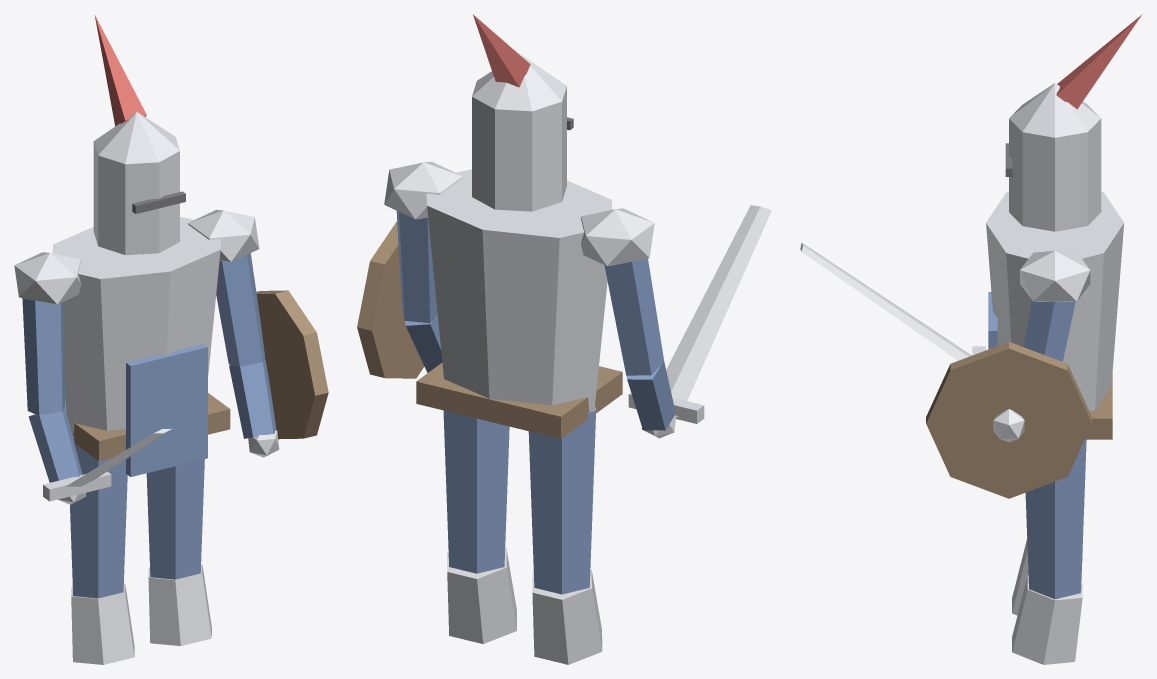
Rendered from knight_of_cardboard.glb.
The picture shows the model from 3 angles, left to right: view 1: azimuth 30°, elevation 25°; view 2: azimuth 150°, elevation 25°; view 3: azimuth 270°, elevation 25°; orthographic projection. The views are drawn at different scales.
Parts seen in each view (by area): view 1: Knight_Of_Cardboard; view 2: Knight_Of_Cardboard; view 3: Knight_Of_Cardboard.
Boxes of the visible parts, box(x1,y1,x2,y2) form: Knight_Of_Cardboard: box(14, 15, 328, 664); Knight_Of_Cardboard: box(357, 14, 771, 664); Knight_Of_Cardboard: box(800, 14, 1142, 664).
Size of the model in its own units: 0.6695 by 1.4 by 0.6998.
